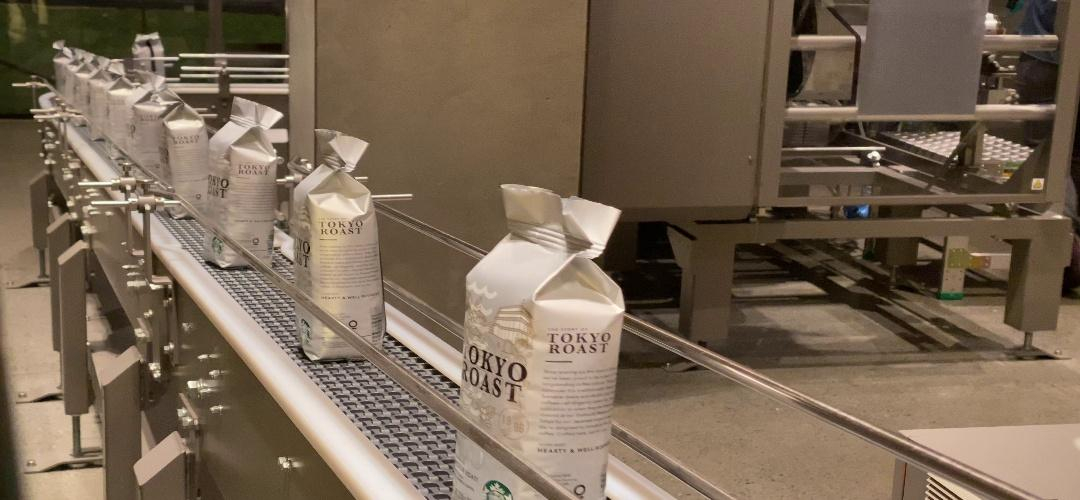conveyor: (462, 277, 610, 411), (294, 190, 382, 284), (206, 142, 277, 213)
